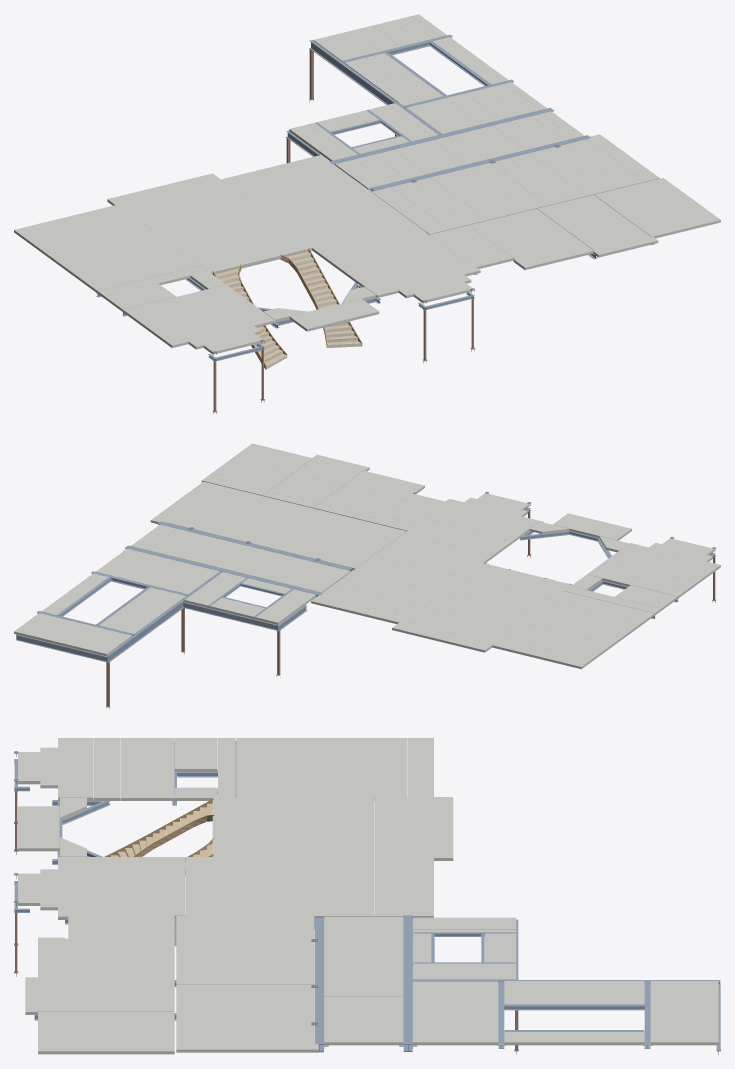
Rendered from stage-2.glb.
3 renders of one model, top to bottom at view 1: azimuth 30°, elevation 25°; view 2: azimuth 150°, elevation 25°; view 3: azimuth 270°, elevation 25°, orthographic. The views are drawn at different scales.
Parts seen in each view (by area): view 1: Geom3D (×6); view 2: Geom3D (×3); view 3: Geom3D (×5).
Boxes of the visible parts, x1,y1,x2,y2 form: Geom3D (×6): (14,14,720,411); Geom3D (×3): (14,443,720,706); Geom3D (×5): (14,738,720,1054).
Bounding box in the file's own units: 33.01 × 3.66 × 31.47.
